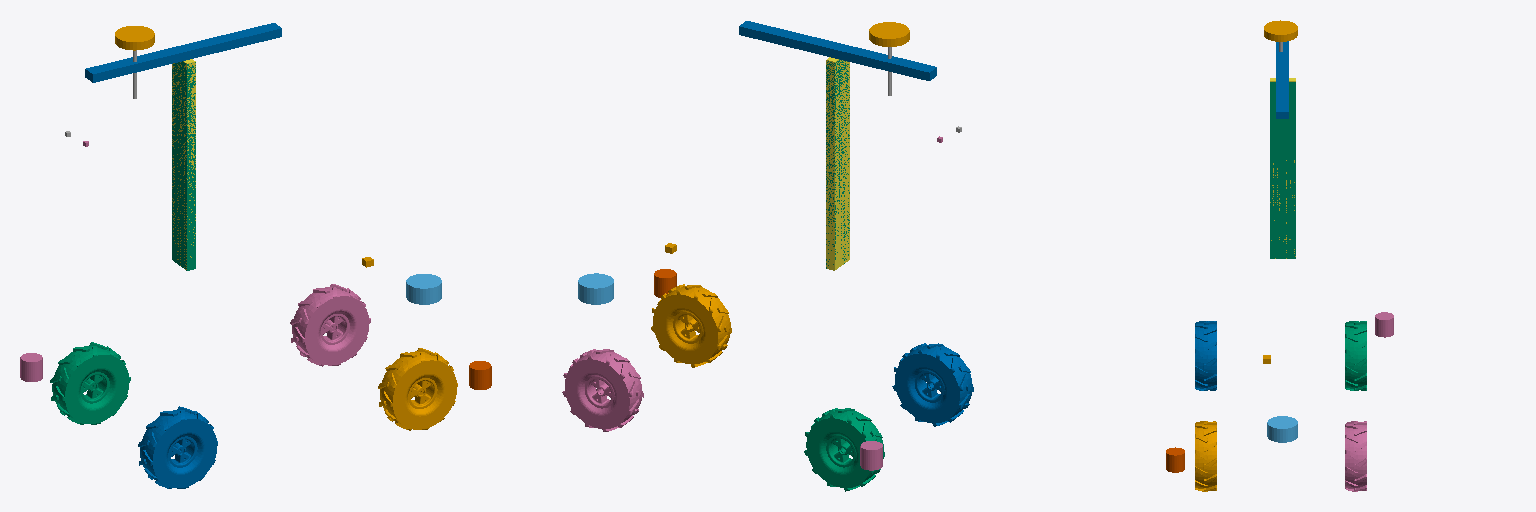
--- Facts derived from the render (not from the file) ---
Views: 3 orthographic renders of the robot side by side, from view 1: azimuth 30°, elevation 25°; view 2: azimuth 150°, elevation 25°; view 3: azimuth 270°, elevation 25°.
Model sherpa with 26 links and 25 joints (8 revolute, 4 continuous, 1 prismatic, 12 fixed), rooted at baselink, posed every joint at zero.
Visible links, largest first — view 1: rbsherpa_hl_front_right_wheel_traction_link, rbsherpa_hl_back_left_wheel_traction_link, rbsherpa_hl_back_right_wheel_traction_link, rbsherpa_hl_front_left_wheel_traction_link, rbsherpa_hl_torso_elevator_link, rbsherpa_hl_torso_pantilt_pan_link, fake_torso_elevator_link, rbsherpa_hl_velodyne_base_link, gps, rbsherpa_hl_rear_laser_link, rbsherpa_hl_front_laser_link; view 2: rbsherpa_hl_front_left_wheel_traction_link, rbsherpa_hl_front_right_wheel_traction_link, rbsherpa_hl_back_right_wheel_traction_link, rbsherpa_hl_back_left_wheel_traction_link, fake_torso_elevator_link, rbsherpa_hl_torso_pantilt_pan_link, rbsherpa_hl_torso_elevator_link, rbsherpa_hl_velodyne_base_link, gps, rbsherpa_hl_rear_laser_link, rbsherpa_hl_front_laser_link; view 3: rbsherpa_hl_torso_elevator_link, rbsherpa_hl_front_right_wheel_traction_link, rbsherpa_hl_front_left_wheel_traction_link, rbsherpa_hl_back_right_wheel_traction_link, rbsherpa_hl_back_left_wheel_traction_link, rbsherpa_hl_torso_pantilt_pan_link, rbsherpa_hl_velodyne_base_link, gps.
Link boxes in pixels (bbox=[...]): rbsherpa_hl_front_right_wheel_traction_link: bbox=[378, 348, 457, 430]; rbsherpa_hl_back_left_wheel_traction_link: bbox=[50, 342, 130, 424]; rbsherpa_hl_back_right_wheel_traction_link: bbox=[138, 406, 217, 488]; rbsherpa_hl_front_left_wheel_traction_link: bbox=[290, 284, 370, 366]; rbsherpa_hl_torso_elevator_link: bbox=[172, 61, 195, 270]; rbsherpa_hl_torso_pantilt_pan_link: bbox=[85, 23, 281, 82]; fake_torso_elevator_link: bbox=[172, 59, 195, 269]; rbsherpa_hl_velodyne_base_link: bbox=[406, 274, 441, 304]; gps: bbox=[115, 26, 154, 50]; rbsherpa_hl_rear_laser_link: bbox=[20, 353, 42, 381]; rbsherpa_hl_front_laser_link: bbox=[469, 361, 491, 389]; rbsherpa_hl_front_left_wheel_traction_link: bbox=[562, 349, 643, 431]; rbsherpa_hl_front_right_wheel_traction_link: bbox=[651, 284, 731, 367]; rbsherpa_hl_back_right_wheel_traction_link: bbox=[892, 343, 973, 426]; rbsherpa_hl_back_left_wheel_traction_link: bbox=[804, 408, 884, 491]; fake_torso_elevator_link: bbox=[826, 57, 849, 270]; rbsherpa_hl_torso_pantilt_pan_link: bbox=[739, 21, 936, 80]; rbsherpa_hl_torso_elevator_link: bbox=[826, 59, 849, 268]; rbsherpa_hl_velodyne_base_link: bbox=[578, 273, 613, 304]; gps: bbox=[869, 22, 909, 46]; rbsherpa_hl_rear_laser_link: bbox=[860, 441, 882, 470]; rbsherpa_hl_front_laser_link: bbox=[654, 269, 676, 297]; rbsherpa_hl_torso_elevator_link: bbox=[1270, 82, 1295, 258]; rbsherpa_hl_front_right_wheel_traction_link: bbox=[1195, 421, 1216, 491]; rbsherpa_hl_front_left_wheel_traction_link: bbox=[1345, 421, 1366, 491]; rbsherpa_hl_back_right_wheel_traction_link: bbox=[1195, 321, 1216, 390]; rbsherpa_hl_back_left_wheel_traction_link: bbox=[1345, 321, 1366, 390]; rbsherpa_hl_torso_pantilt_pan_link: bbox=[1276, 41, 1288, 118]; rbsherpa_hl_velodyne_base_link: bbox=[1267, 416, 1297, 442]; gps: bbox=[1264, 20, 1297, 41].
Bounding box of the posed robot: 1.95 × 1.2 × 2.08 m (x, y, z).
4 mesh visuals loaded from 8 distinct referenced files (1 Collada DAE); not drawn: 10 (reference not matched to a file when rendering).

The robot description file, URDF, robot "sherpa":
<?xml version="1.0" ?>
<!-- =================================================================================== -->
<!-- |    This document was autogenerated by xacro from rm3_sherpa_omni.urdf.xacro     | -->
<!-- |    EDITING THIS FILE BY HAND IS NOT RECOMMENDED                                 | -->
<!-- =================================================================================== -->
<!-- Sherpa -->
<robot name="sherpa" xmlns:xacro="http://www.ros.org/wiki/xacro">
  <!--from sherpa_ex-->
  <!-- Height of the top of the chassis wrt ground -->
  <!-- Wheel Parameters -->
  <!-- Sensors -->
  <!-- Arm Parameters -->
  <!-- Origin wrt chassis' frame -->
  <!--<xacro:property name="lg_origin_y" value="0.0"/>-->
  <!--<xacro:property name="lg_origin_z" value="${cb_origin_z}"/> <!- - Height of the top of the chassis wrt ground - ->-->
  <!--xacro:arg name="prefix" default="rbsherpa_hl_"/-->
  <!-- Base Link -->
  <link name="baselink">
    <visual>
      <origin rpy="0.0 0.0 0.0" xyz="0.0 0.0 0.001"/>
      <geometry>
        <box size="0.001 0.001 0.001"/>
      </geometry>
    </visual>
    <!--		<collision>-->
    <!--			<origin rpy="0.0 0.0 0.0" xyz="0.0 0.0 ${chassis_field_height}"/>-->
    <!--			<geometry>-->
    <!--				<box size="0.001 0.001 0.001"/>-->
    <!--			</geometry>-->
    <!--		</collision>-->
  </link>
  <!--	<joint name="${prefix}base_footprint_joint" type="fixed">-->
  <!--		<parent link="baselink"/>-->
  <!--		<child link="${prefix}base_link"/>-->
  <!--<!- -        <origin xyz="0.0 0.0 0.0"/>- ->-->
  <!--		<origin xyz="0.622 0.0 0.0"/>-->
  <!--	</joint>-->
  <!--	-->
  <!--<!- - Chassis - ->-->
  <!--	<link name="${prefix}base_link">-->
  <!--		<visual>-->
  <!--			<origin rpy="0.0 0.0 ${PI}" xyz="0.0 0.0 ${chassis_z/2-0.0150}"/>-->
  <!--			<geometry>-->
  <!--<mesh filename="package://rm3_sherpa_description/description/meshes/rbsherpa_hl_base_tank.dae" />-->
  <!--			</geometry>-->
  <!--		</visual>-->
  <!--     -->
  <!--		<collision>-->
  <!--			<origin rpy="0.0 0.0 0.0" xyz="0.0 0.0 ${chassis_field_height+chassis_z/2}"/>-->
  <!--			<geometry>-->
  <!--				<box size="${chassis_x} ${chassis_y} ${chassis_z}"/>-->
  <!--			</geometry>-->
  <!--		</collision>-->
  <!--     -->
  <!--		<inertial> -->
  <!--			<origin rpy="0.0 0.0 0.0" xyz="0.0 0.0 ${chassis_field_height+chassis_z/2}"/>-->
  <!--			<mass value="${mass}"/>-->
  <!--			<box_inertia  m="${mass}" h="${chassis_x}" w ="${chassis_y}" d="${chassis_z}"/>-->
  <!--		</inertial>-->
  <!--	</link>-->
  <!--	-->
  <!--	<gazebo reference="${prefix}base_link"><material>Gazebo/Red</material></gazebo>-->
  <joint name="rbsherpa_hl_base_footprint_joint" type="fixed">
    <parent link="baselink"/>
    <child link="rbsherpa_hl_base_link"/>
    <origin xyz="0.622 0.0 0.0"/>
  </joint>
  <!-- Chassis -->
  <link name="rbsherpa_hl_base_link">
    <visual>
      --&gt;
			
      <origin rpy="0.0 0.0 3.14159265359" xyz="0.0 0.0 0.1822"/>
      <geometry>
        <mesh filename="package://rm3_sherpa_description/description/meshes/rbsherpa_hl_base_tank.dae"/>
      </geometry>
    </visual>
    <!--		<visual>-->
    <!--			<origin rpy="0.0 0.0 0.0" xyz="0.0 0.0 ${chassis_field_height+chassis_z/2}"/>-->
    <!--			<geometry>-->
    <!--				<box size="${chassis_x} ${chassis_y} ${chassis_z}"/>-->
    <!--			</geometry>-->
    <!--		</visual>-->
    <collision>
      <origin rpy="0.0 0.0 0.0" xyz="0.0 0.0 0.6671"/>
      <geometry>
        <box size="1.6434 1.004 0.3944"/>
      </geometry>
    </collision>
    <inertial>
      <origin rpy="0.0 0.0 0.0" xyz="0.0 0.0 0.6671"/>
      <mass value="1"/>
      <inertia ixx="0.0969639466667" ixy="0.0" ixz="0.0" iyy="0.238026243333" iyz="0.0" izz="0.309064963333"/>
    </inertial>
  </link>
  <!--  <gazebo reference="${prefix}base_link">-->
  <!--    <material>Gazebo/Red</material>-->
  <!--    <mu1 value="${mu_1}"/>-->
  <!--  </gazebo>-->
  <gazebo reference="rbsherpa_hl_base_link">
    <material>Gazebo/Red</material>
    <mu1 value="9999999999999999999999999999999"/>
  </gazebo>
  <!-- ros_control plugin -->
  <gazebo>
    <static>false</static>
    <plugin filename="libgazebo_ros_control.so" name="gazebo_ros_control">
      <robotNamespace>/sherpa</robotNamespace>
      <robotSimType>gazebo_ros_control/DefaultRobotHWSim</robotSimType>
      <legacyModeNS>true</legacyModeNS>
    </plugin>
  </gazebo>
  <!--xacro:arg name="prefix" default="rbsherpa_hl_"/-->
  <!-- Lift Link -->
  <joint name="rbsherpa_hl_torso_elevator_joint" type="prismatic">
    <parent link="rbsherpa_hl_base_link"/>
    <child link="rbsherpa_hl_torso_elevator_link"/>
    <origin rpy="0.0 0.0 0.0" xyz="-0.36280 0.0090 0.8643"/>
    <axis xyz="0 0 1"/>
    <limit effort="1000" lower="0.0" upper="2.5" velocity="0.5"/>
  </joint>
  <link name="rbsherpa_hl_torso_elevator_link">
    <visual>
      <origin rpy="0.0 0.0 0.0" xyz="0.0 0.0 0.51185"/>
      <geometry>
        <box size="0.04507 0.13725 1.0237"/>
      </geometry>
    </visual>
    <inertial>
      <origin rpy="0.0 0.0 0.0" xyz="0.0 0.0 0.51185"/>
      <mass value="0.5"/>
      <inertia ixx="0.0444499688542" ixy="0.0" ixz="0.0" iyy="0.0437497081208" iyz="0.0" izz="0.000869536141667"/>
    </inertial>
  </link>
  <gazebo reference="rbsherpa_hl_torso_elevator_link">
    <material>Gazebo/DarkGrey</material>
  </gazebo>
  <joint name="fake_torso_elevator_joint" type="fixed">
    <parent link="rbsherpa_hl_base_link"/>
    <child link="fake_torso_elevator_link"/>
    <origin xyz="-0.36280 0.0090 0.8643"/>
  </joint>
  <link name="fake_torso_elevator_link">
    <visual>
      <origin rpy="0.0 0.0 0.0" xyz="0.0 0.0 0.51345"/>
      <geometry>
        <box size="0.04507 0.13725 1.0269"/>
      </geometry>
    </visual>
    <inertial>
      <origin rpy="0.0 0.0 0.0" xyz="0.0 0.0 0.51345"/>
      <mass value="0.5"/>
      <inertia ixx="0.0444499688542" ixy="0.0" ixz="0.0" iyy="0.0437497081208" iyz="0.0" izz="0.000869536141667"/>
    </inertial>
  </link>
  <gazebo reference="fake_torso_elevator_link">
    <material>Gazebo/DarkGrey</material>
  </gazebo>
  <!-- Pan -->
  <joint name="rbsherpa_hl_torso_pantilt_pan_joint" type="revolute">
    <parent link="rbsherpa_hl_torso_elevator_link"/>
    <child link="rbsherpa_hl_torso_pantilt_pan_link"/>
    <origin rpy="0.0 0.0 0.0" xyz="0.0 0.0 1.0269"/>
    <axis xyz="0.0 0.0 -1"/>
    --&gt;
	
    <limit effort="1000" lower="-3.1415" upper="3.1415" velocity="0.2"/>
  </joint>
  <link name="rbsherpa_hl_torso_pantilt_pan_link">
    <visual>
      <origin rpy="0.0 0.0 3.14159265359" xyz="0.0 0.0 0.021455"/>
      <geometry>
        <box size="0.980915 0.07 0.04291"/>
      </geometry>
    </visual>
    <inertial>
      <origin rpy="0.0 0.0 0.0" xyz="0 0 0.021455"/>
      <mass value="0.5"/>
      <inertia ixx="0.000280886170833" ixy="0.0" ixz="0.0" iyy="0.0401681460552" iyz="0.0" izz="0.0402955932177"/>
    </inertial>
  </link>
  <gazebo reference="rbsherpa_hl_torso_pantilt_pan_link">
    <material>Gazebo/DarkGrey</material>
  </gazebo>
  <!--xacro:arg name="prefix" default="rbsherpa_hl_"/-->
  <!-- pan_transmission OLD -->
  <transmission name="rbsherpa_hl_torso_pantilt_pan_trans">
    <type>transmission_interface/SimpleTransmission</type>
    <joint name="rbsherpa_hl_torso_pantilt_pan_joint">
      <hardwareInterface>hardware_interface/EffortJointInterface</hardwareInterface>
    </joint>
    <actuator name="rbsherpa_hl_torso_pantilt_pan_motor">
      <mechanicalReduction>1</mechanicalReduction>
      <hardwareInterface>hardware_interface/EffortJointInterface</hardwareInterface>
    </actuator>
  </transmission>
  <!-- pan_transmission OLD
<transmission name="pan_joint_transmission">
    <type>transmission_interface/SimpleTransmission</type>
    <joint name="pan_joint">
      <hardwareInterface>hardware_interface/EffortJointInterface</hardwareInterface>
    </joint>
    <actuator name="pan_joint_motor">    
      <hardwareInterface>hardware_interface/EffortJointInterface</hardwareInterface>
      <mechanicalReduction>1.0</mechanicalReduction>
    </actuator>
</transmission>-->
  <!-- lift_transmission NEW-->
  <transmission name="rbsherpa_hl_torso_elevator_trans">
    <type>transmission_interface/SimpleTransmission</type>
    <joint name="rbsherpa_hl_torso_elevator_joint">
      <hardwareInterface>hardware_interface/EffortJointInterface</hardwareInterface>
    </joint>
    <actuator name="rbsherpa_hl_torso_elevator_motor">
      <mechanicalReduction>1</mechanicalReduction>
      <hardwareInterface>hardware_interface/EffortJointInterface</hardwareInterface>
    </actuator>
  </transmission>
  <!-- lift_transmission OLD
<transmission name="lift_joint_transmission">
    <type>transmission_interface/SimpleTransmission</type>
    <joint name="lift_joint">
       <hardwareInterface>hardware_interface/EffortJointInterface</hardwareInterface> 

    </joint>
    <actuator name="lift_joint_motor">    
       <hardwareInterface>hardware_interface/EffortJointInterface</hardwareInterface> 

      <mechanicalReduction>1.0</mechanicalReduction>
    </actuator>
</transmission>-->
  <!-- yaw_transmission NEW -->
  <transmission name="rbsherpa_hl_gimbal_yaw_trans">
    <type>transmission_interface/SimpleTransmission</type>
    <joint name="rbsherpa_hl_gimbal_yaw_joint">
      <hardwareInterface>hardware_interface/EffortJointInterface</hardwareInterface>
    </joint>
    <actuator name="rbsherpa_hl_gimbal_yaw_motor">
      <mechanicalReduction>1</mechanicalReduction>
      <hardwareInterface>hardware_interface/EffortJointInterface</hardwareInterface>
    </actuator>
  </transmission>
  <!-- yaw_transmission OLD
<transmission name="yaw_joint_transmission">
    <type>transmission_interface/SimpleTransmission</type>
    <joint name="yaw_joint">
       <hardwareInterface>hardware_interface/EffortJointInterface</hardwareInterface> 

    </joint>
    <actuator name="yaw_joint_motor">    
       <hardwareInterface>hardware_interface/EffortJointInterface</hardwareInterface> 

      <mechanicalReduction>1.0</mechanicalReduction>
    </actuator>
</transmission>-->
  <!-- roll_transmission NEW -->
  <transmission name="rbsherpa_hl_gimbal_roll_trans">
    <type>transmission_interface/SimpleTransmission</type>
    <joint name="rbsherpa_hl_gimbal_roll_joint">
      <hardwareInterface>hardware_interface/EffortJointInterface</hardwareInterface>
    </joint>
    <actuator name="rbsherpa_hl_gimbal_roll_motor">
      <mechanicalReduction>1</mechanicalReduction>
      <hardwareInterface>hardware_interface/EffortJointInterface</hardwareInterface>
    </actuator>
  </transmission>
  <!-- roll_transmission OLD 
<transmission name="roll_joint_transmission">
    <type>transmission_interface/SimpleTransmission</type>
    <joint name="roll_joint">
       <hardwareInterface>hardware_interface/EffortJointInterface</hardwareInterface> 

    </joint>
    <actuator name="roll_joint_motor">    
       <hardwareInterface>hardware_interface/EffortJointInterface</hardwareInterface> 

      <mechanicalReduction>1.0</mechanicalReduction>
    </actuator>
</transmission>-->
  <!-- pitch_transmission NEW -->
  <transmission name="rbsherpa_hl_gimbal_pitch_trans">
    <type>transmission_interface/SimpleTransmission</type>
    <joint name="rbsherpa_hl_gimbal_pitch_joint">
      <hardwareInterface>hardware_interface/EffortJointInterface</hardwareInterface>
    </joint>
    <actuator name="rbsherpa_hl_gimbal_pitch_motor">
      <mechanicalReduction>1</mechanicalReduction>
      <hardwareInterface>hardware_interface/EffortJointInterface</hardwareInterface>
    </actuator>
  </transmission>
  <!-- pitch_transmission OLD 
<transmission name="pitch_joint_transmission">
    <type>transmission_interface/SimpleTransmission</type>
    <joint name="pitch_joint">
       <hardwareInterface>hardware_interface/EffortJointInterface</hardwareInterface> 

    </joint>
    <actuator name="pitch_joint_motor">    
       <hardwareInterface>hardware_interface/EffortJointInterface</hardwareInterface> 

      <mechanicalReduction>1.0</mechanicalReduction>
    </actuator>
</transmission>-->
  <!--  <xacro:property name="wheel_joint_damping" value="10.0" />-->
  <!--  <xacro:property name="wheel_joint_friction" value="15.0" />-->
  <!-- Left Steering Wheel -->
  <!--   Steering Mechanism -->
  <joint name="rbsherpa_hl_front_left_wheel_steer_joint" type="revolute">
    <parent link="rbsherpa_hl_base_link"/>
    <child link="rbsherpa_hl_front_left_wheel_steer_link"/>
    <origin xyz="0.622 0.367 0.4799"/>
    <axis rpy="0 0 0" xyz="0 0 1"/>
    <!--<limit effort="30.0" velocity="50.0" lower="-${steer_joint_position_limit}" upper="${steer_joint_position_limit}"/>-->
    <limit effort="30.0" lower="-3.13159265359" upper="3.14159265359" velocity="50.0"/>
    <!--    <joint_properties damping="${steer_joint_damping}" friction="${steer_joint_friction}"/>-->
  </joint>
  <!--  <joint name="$(arg prefix)front_left_wheel_steer_joint" type="fixed">-->
  <!--    <parent link="$(arg prefix)base_link"/>-->
  <!--    <child link="$(arg prefix)front_left_wheel_steer_link"/>-->
  <!--    <origin xyz="${wheel_steer_offset_x} ${wheel_steer_offset_y} ${chassis_field_height+0.010}"/>-->
  <!--  </joint>-->
  <link name="rbsherpa_hl_front_left_wheel_steer_link">
    <visual>
      <origin rpy="0.0 0.0 0.0" xyz="0.0 0.0 -0.018"/>
      <geometry>
        <mesh filename="package://rm3_sherpa_description/description/meshes/rbsherpa_hl_steer_wheel.dae"/>
      </geometry>
    </visual>
    <inertial>
      <origin rpy="1.57079632679 0.0 0.0" xyz="0.0 0.0 -0.03"/>
      <mass value="0.1"/>
      <inertia ixx="0.000643333333333" ixy="0.0" ixz="0.0" iyy="0.00128" iyz="0.0" izz="0.000643333333333"/>
    </inertial>
  </link>
  <gazebo reference="rbsherpa_hl_front_left_wheel_steer_link">
    <material>Gazebo/Grey</material>
  </gazebo>
  <!-- wheel -->
  <joint name="rbsherpa_hl_front_left_wheel_traction_joint" type="continuous">
    <parent link="rbsherpa_hl_front_left_wheel_steer_link"/>
    <child link="rbsherpa_hl_front_left_wheel_traction_link"/>
    <origin xyz="0.0 -0.03 -0.3066"/>
    <axis xyz="0.0 1.0 0.0"/>
    <!--    <joint_properties damping="${wheel_joint_damping}" friction="${wheel_joint_friction}"/>-->
  </joint>
  <!--  <joint name="$(arg prefix)front_left_wheel_traction_joint" type="fixed">-->
  <!--    <parent link="$(arg prefix)front_left_wheel_steer_link"/>-->
  <!--      <child link="$(arg prefix)front_left_wheel_traction_link"/>-->
  <!--      <origin xyz="0.0 -${wheel_traction_offset_y} -${steer_z+0.0210+suspension_z}"/>-->
  <!--  </joint>-->
  <link name="rbsherpa_hl_front_left_wheel_traction_link">
    <visual>
      <origin rpy="0.0 1.57079632679 0.0" xyz="0.0 0.0571 0.0"/>
      <geometry>
        <mesh filename="package://rm3_sherpa_description/description/meshes/rbsherpa_hl_traction_wheel.dae"/>
      </geometry>
      <!--      <origin rpy="0.0 ${PI/2} ${PI/2}" xyz="0.0 ${wheel_width/2} 0.0"/>-->
      <!--      <geometry>-->
      <!--        <cylinder radius="${wheel_radius}" length="${wheel_width}"/>-->
      <!--      </geometry>-->
    </visual>
    <collision>
      <origin rpy="0.0 1.57079632679 1.57079632679" xyz="0.0 0.0571 0.0"/>
      <geometry>
        <cylinder length="0.1142" radius="0.1743"/>
      </geometry>
    </collision>
    <inertial>
      <origin rpy="0.0 0.0 0.0" xyz="0.0 0.0571 0.0"/>
      <mass value="1.0"/>
      <inertia ixx="0.00868192583333" ixy="0.0" ixz="0.0" iyy="0.015190245" iyz="0.0" izz="0.00868192583333"/>
    </inertial>
  </link>
  <gazebo reference="rbsherpa_hl_front_left_wheel_traction_link">
    <material>Gazebo/DarkGrey</material>
    <mu1 value="9999999999999999999999999999999"/>
  </gazebo>
  <transmission name="rbsherpa_hl_front_left_wheel_steer_wheel_joint_trans">
    <type>transmission_interface/SimpleTransmission</type>
    <joint name="rbsherpa_hl_front_left_wheel_steer_joint">
      <hardwareInterface>hardware_interface/EffortJointInterface</hardwareInterface>
    </joint>
    <actuator name="rbsherpa_hl_front_left_wheel_steer_wheel_joint_motor">
      <hardwareInterface>hardware_interface/EffortJointInterface</hardwareInterface>
      <mechanicalReduction>1.0</mechanicalReduction>
    </actuator>
  </transmission>
  <transmission name="rbsherpa_hl_front_left_wheel_traction_wheel_traction_joint_trans">
    <type>transmission_interface/SimpleTransmission</type>
    <joint name="rbsherpa_hl_front_left_wheel_traction_joint">
      <hardwareInterface>hardware_interface/EffortJointInterface</hardwareInterface>
    </joint>
    <actuator name="rbsherpa_hl_front_left_wheel_traction_wheel_traction_joint_motor">
      <hardwareInterface>hardware_interface/EffortJointInterface</hardwareInterface>
      <mechanicalReduction>1.0</mechanicalReduction>
    </actuator>
  </transmission>
  <!--  <!- - left_front_axle_transmission - ->-->
  <!--  <transmission name="$(arg prefix)front_left_wheel_traction_transmission">-->
  <!--    <type>trasnmission_interface/SimpleTransmission</type>-->
  <!--    <joint name="$(arg prefix)front_left_wheel_traction_joint">-->
  <!--      <hardwareInterface>hardware_interface/EffortJointInterface</hardwareInterface>-->
  <!--    </joint>-->
  <!--    <actuator name="$(arg prefix)front_left_wheel_traction_motor">    -->
  <!--      <hardwareInterface>hardware_interface/EffortJointInterface</hardwareInterface>-->
  <!--      <mechanicalReduction>1</mechanicalReduction>-->
  <!--    </actuator>-->
  <!--  </transmission>-->
  <!--  <gazebo reference="left_front_wheel">-->
  <!--    <material>Gazebo/DarkGrey</material>-->
  <!--			<mu1 value="1.0"/>-->
  <!--			<mu2 value="1.0"/>-->
  <!--			<kp value="10000000.0" />-->
  <!--			<kd value="1.0" />-->
  <!--			<fdir1 value="1 0.0 0.0"/>-->
  <!--    </gazebo>-->
  <!-- Right Steering Wheel -->
  <!-- Steering Mechanism -->
  <joint name="rbsherpa_hl_front_right_wheel_steer_joint" type="revolute">
    <parent link="rbsherpa_hl_base_link"/>
    <child link="rbsherpa_hl_front_right_wheel_steer_link"/>
    <origin xyz="0.622 -0.367 0.4799"/>
    <axis rpy="0 0 0" xyz="0 0 1"/>
    <limit effort="30.0" lower="-3.13159265359" upper="3.14159265359" velocity="50.0"/>
    <!--    <joint_properties damping="${steer_joint_damping}" friction="${steer_joint_friction}"/>-->
  </joint>
  <!--  <joint name="$(arg prefix)front_right_wheel_steer_joint" type="fixed">-->
  <!--    <parent link="$(arg prefix)base_link"/>-->
  <!--    <child link="$(arg prefix)front_right_wheel_steer_link"/>-->
  <!--    <origin xyz="${wheel_steer_offset_x} -${wheel_steer_offset_y} ${chassis_field_height+0.010}"/>-->
  <!--  </joint>-->
  <link name="rbsherpa_hl_front_right_wheel_steer_link">
    <visual>
      <origin rpy="0.0 0.0 3.14159265359" xyz="0.0 0.0 -0.018"/>
      <geometry>
        <mesh filename="package://rm3_sherpa_description/description/meshes/rbsherpa_hl_steer_wheel.dae"/>
      </geometry>
    </visual>
    <inertial>
      <origin rpy="1.57079632679 0.0 0.0" xyz="0.0 0.0 -0.03"/>
      <mass value="0.1"/>
      <inertia ixx="0.000643333333333" ixy="0.0" ixz="0.0" iyy="0.00128" iyz="0.0" izz="0.000643333333333"/>
    </inertial>
  </link>
  <gazebo reference="rbsherpa_hl_front_right_wheel_steer_link">
    <material>Gazebo/Grey</material>
  </gazebo>
  <!-- wheel -->
  <joint name="rbsherpa_hl_front_right_wheel_traction_joint" type="continuous">
    <parent link="rbsherpa_hl_front_right_wheel_steer_link"/>
    <child link="rbsherpa_hl_front_right_wheel_traction_link"/>
    <origin xyz="0.0 0.03 -0.3066"/>
    <axis xyz="0.0 1.0 0.0"/>
  </joint>
  <!--  <joint name="$(arg prefix)front_right_wheel_traction_joint" type="fixed">-->
  <!--      <parent link="$(arg prefix)front_right_wheel_steer_link" />-->
  <!--      <child link="$(arg prefix)front_right_wheel_traction_link"/>-->
  <!--      <origin xyz="0.0 ${wheel_traction_offset_y} -${steer_z+0.0210+suspension_z}"/>-->
  <!--  </joint>-->
  <link name="rbsherpa_hl_front_right_wheel_traction_link">
    <visual>
      <origin rpy="0.0 1.57079632679 0.0" xyz="0.0 -0.0571 0.0"/>
      <geometry>
        <mesh filename="package://rm3_sherpa_description/description/meshes/rbsherpa_hl_traction_wheel.dae"/>
      </geometry>
    </visual>
    <collision>
      <origin rpy="0.0 1.57079632679 1.57079632679" xyz="0.0 -0.0571 0.0"/>
      <geometry>
        <cylinder length="0.1142" radius="0.1743"/>
      </geometry>
    </collision>
    <inertial>
      <origin rpy="0.0 0.0 0.0" xyz="0.0 -0.0571 0.0"/>
      <mass value="1.0"/>
      <inertia ixx="0.00868192583333" ixy="0.0" ixz="0.0" iyy="0.015190245" iyz="0.0" izz="0.00868192583333"/>
    </inertial>
  </link>
  <transmission name="rbsherpa_hl_front_right_wheel_steer_wheel_joint_trans">
    <type>transmission_interface/SimpleTransmission</type>
    <joint name="rbsherpa_hl_front_right_wheel_steer_joint">
      <hardwareInterface>hardware_interface/EffortJointInterface</hardwareInterface>
    </joint>
    <actuator name="rbsherpa_hl_front_right_wheel_steer_wheel_joint_motor">
      <hardwareInterface>hardware_interface/EffortJointInterface</hardwareInterface>
      <mechanicalReduction>1.0</mechanicalReduction>
    </actuator>
  </transmission>
  <transmission name="rbsherpa_hl_front_right_wheel_traction_wheel_traction_joint_trans">
    <type>transmission_interface/SimpleTransmission</type>
    <joint name="rbsherpa_hl_front_right_wheel_traction_joint">
      <hardwareInterface>hardware_interface/EffortJointInterface</hardwareInterface>
    </joint>
    <actuator name="rbsherpa_hl_front_right_wheel_traction_wheel_traction_joint_motor">
      <hardwareInterface>hardware_interface/EffortJointInterface</hardwareInterface>
      <mechanicalReduction>1.0</mechanicalReduction>
    </actuator>
  </transmission>
  <gazebo reference="rbsherpa_hl_front_right_wheel_traction_link">
    <material>Gazebo/DarkGrey</material>
    <mu1 value="9999999999999999999999999999999"/>
  </gazebo>
  <!--  <gazebo reference="right_front_wheel">-->
  <!--    <material>Gazebo/DarkGrey</material> -->
  <!--    <mu1 value="1.0"/>-->
  <!--			<mu2 value="1.0"/>-->
  <!--			<kp value="10000000.0" />-->
  <!--			<kd value="1.0" />-->
  <!--			<fdir1 value="1.0 0.0 0.0"/>-->
  <!--    </gazebo>   -->
  <!-- Left rear Wheel -->
  <!-- Support-->
  <joint name="rbsherpa_hl_back_left_wheel_steer_joint" type="revolute">
    <parent link="rbsherpa_hl_base_link"/>
    <child link="rbsherpa_hl_back_left_wheel_steer_link"/>
    <origin xyz="-0.622 0.367 0.4799"/>
    <axis rpy="0 0 0" xyz="0 0 1"/>
    <limit effort="30.0" lower="-3.13159265359" upper="3.14159265359" velocity="50.0"/>
    <!--    <joint_properties damping="${steer_joint_damping}" friction="${steer_joint_friction}"/>-->
  </joint>
  <!--  <joint name="$(arg prefix)back_left_wheel_steer_joint" type="fixed">-->
  <!--    <parent link="$(arg prefix)base_link"/>-->
  <!--    <child link="$(arg prefix)back_left_wheel_steer_link"/>-->
  <!--    <origin xyz="-${wheel_steer_offset_x} ${wheel_steer_offset_y} ${chassis_field_height+0.010}"/>-->
  <!--  </joint>-->
  <link name="rbsherpa_hl_back_left_wheel_steer_link">
    <visual>
      <origin rpy="0.0 0.0 0.0" xyz="0.0 0.0 -0.018"/>
      <geometry>
        <mesh filename="package://rm3_sherpa_description/description/meshes/rbsherpa_hl_steer_wheel.dae"/>
      </geometry>
    </visual>
    <inertial>
      <origin rpy="1.57079632679 0.0 0.0" xyz="0.0 0.0 -0.03"/>
      <mass value="0.1"/>
      <inertia ixx="0.000643333333333" ixy="0.0" ixz="0.0" iyy="0.00128" iyz="0.0" izz="0.000643333333333"/>
    </inertial>
  </link>
  <gazebo reference="rbsherpa_hl_back_left_wheel_steer_link">
    <material>Gazebo/Grey</material>
  </gazebo>
  <!-- wheel -->
  <joint name="rbsherpa_hl_back_left_wheel_traction_joint" type="continuous">
    <parent link="rbsherpa_hl_back_left_wheel_steer_link"/>
    <child link="rbsherpa_hl_back_left_wheel_traction_link"/>
    <origin xyz="0.0 -0.03 -0.3066"/>
    <axis xyz="0.0 1.0 0.0"/>
  </joint>
  <!--  <joint name="$(arg prefix)back_left_wheel_traction_joint" type="fixed">-->
  <!--      <parent link="$(arg prefix)back_left_wheel_steer_link" />-->
  <!--      <child link="$(arg prefix)back_left_wheel_traction_link"/>-->
  <!--      <origin xyz="0.0 -${wheel_traction_offset_y} -${steer_z+0.0210+suspension_z}"/>-->
  <!--  </joint>-->
  <link name="rbsherpa_hl_back_left_wheel_traction_link">
    <visual>
      <origin rpy="0.0 1.57079632679 0.0" xyz="0.0 0.0571 0.0"/>
      <geometry>
        <mesh filename="package://rm3_sherpa_description/description/meshes/rbsherpa_hl_traction_wheel.dae"/>
      </geometry>
    </visual>
    <collision>
      <origin rpy="0.0 1.57079632679 1.57079632679" xyz="0.0 0.0571 0.0"/>
      <geometry>
        <cylinder length="0.1142" radius="0.1743"/>
      </geometry>
    </collision>
    <inertial>
      <origin rpy="0.0 0.0 0.0" xyz="0.0 0.0571 0.0"/>
      <mass value="1.0"/>
      <inertia ixx="0.00868192583333" ixy="0.0" ixz="0.0" iyy="0.015190245" iyz="0.0" izz="0.00868192583333"/>
    </inertial>
  </link>
  <transmission name="rbsherpa_hl_back_left_wheel_steer_wheel_joint_trans">
    <type>transmission_interface/SimpleTransmission</type>
    <joint name="rbsherpa_hl_back_left_wheel_steer_joint">
      <hardwareInterface>hardware_interface/EffortJointInterface</hardwareInterface>
    </joint>
    <actuator name="rbsherpa_hl_back_left_wheel_steer_wheel_joint_motor">
      <hardwareInterface>hardware_interface/EffortJointInterface</hardwareInterface>
      <mechanicalReduction>1.0</mechanicalReduction>
    </actuator>
  </transmission>
  <transmission name="rbsherpa_hl_back_left_wheel_traction_wheel_traction_joint_trans">
    <type>transmission_interface/SimpleTransmission</type>
    <joint name="rbsherpa_hl_back_left_wheel_traction_joint">
      <hardwareInterface>hardware_interface/EffortJointInterface</hardwareInterface>
    </joint>
    <actuator name="rbsherpa_hl_back_left_wheel_traction_wheel_traction_joint_motor">
      <hardwareInterface>hardware_interface/EffortJointInterface</hardwareInterface>
      <mechanicalReduction>1.0</mechanicalReduction>
    </actuator>
  </transmission>
  <gazebo reference="rbsherpa_hl_back_left_wheel_traction_link">
    <material>Gazebo/DarkGrey</material>
    <mu1 value="9999999999999999999999999999999"/>
  </gazebo>
  <!--  <gazebo reference="left_rear_wheel">-->
  <!--    <material>Gazebo/DarkGrey</material> -->
  <!--    <mu1 value="1.0"/>-->
  <!--			<mu2 value="1.0"/>-->
  <!--			<kp value="10000000.0" />-->
  <!--			<kd value="1.0" />-->
  <!--			<fdir1 value="1.0 0.0 0.0"/>-->
  <!--    </gazebo>   -->
  <!-- Right Rear Wheel -->
  <!-- Support -->
  <joint name="rbsherpa_hl_back_right_wheel_steer_joint" type="revolute">
    <parent link="rbsherpa_hl_base_link"/>
    <child link="rbsherpa_hl_back_right_wheel_steer_link"/>
    <origin xyz="-0.622 -0.367 0.4799"/>
    <axis rpy="0 0 0" xyz="0 0 1"/>
    <limit effort="30.0" lower="-3.13159265359" upper="3.14159265359" velocity="50.0"/>
    <!--    <joint_properties damping="${steer_joint_damping}" friction="${steer_joint_friction}"/>-->
  </joint>
  <!-- <joint name="$(arg prefix)back_right_wheel_steer_joint" type="fixed">-->
  <!--    <parent link="$(arg prefix)base_link"/>-->
  <!--    <child link="$(arg prefix)back_right_wheel_steer_link"/>-->
  <!--    <origin xyz="-${wheel_steer_offset_x} -${wheel_steer_offset_y} ${chassis_field_height+0.010}"/>-->
  <!--  </joint>-->
  <link name="rbsherpa_hl_back_right_wheel_steer_link">
    <visual>
      <origin rpy="0.0 0.0 3.14159265359" xyz="0.0 0.0 -0.018"/>
      <geometry>
        <mesh filename="package://rm3_sherpa_description/description/meshes/rbsherpa_hl_steer_wheel.dae"/>
      </geometry>
    </visual>
    <inertial>
      <origin rpy="1.57079632679 0.0 0.0" xyz="0.0 0.0 -0.03"/>
      <mass value="0.1"/>
      <inertia ixx="0.000643333333333" ixy="0.0" ixz="0.0" iyy="0.00128" iyz="0.0" izz="0.000643333333333"/>
    </inertial>
  </link>
  <gazebo reference="rbsherpa_hl_back_right_wheel_steer_link">
    <material>Gazebo/Grey</material>
  </gazebo>
  <!-- wheel -->
  <joint name="rbsherpa_hl_back_right_wheel_traction_joint" type="continuous">
    <parent link="rbsherpa_hl_back_right_wheel_steer_link"/>
    <child link="rbsherpa_hl_back_right_wheel_traction_link"/>
    <origin xyz="0.0 0.03 -0.3066"/>
    <axis xyz="0.0 1 0.0"/>
  </joint>
  <!--  <joint name="$(arg prefix)back_right_wheel_traction_joint" type="fixed">-->
  <!--      <parent link="$(arg prefix)back_right_wheel_steer_link" />-->
  <!--      <child link="$(arg prefix)back_right_wheel_traction_link"/>-->
  <!--      <origin xyz="0.0 ${wheel_traction_offset_y} -${steer_z+0.0210+suspension_z}"/>-->
  <!--  </joint>-->
  <link name="rbsherpa_hl_back_right_wheel_traction_link">
    <visual>
      <origin rpy="0.0 1.57079632679 0.0" xyz="0.0 -0.0571 0.0"/>
      <geometry>
        <mesh filename="package://rm3_sherpa_description/description/meshes/rbsherpa_hl_traction_wheel.dae"/>
      </geometry>
    </visual>
    <collision>
      <origin rpy="0.0 1.57079632679 1.57079632679" xyz="0.0 -0.0571 0"/>
      <geometry>
        <cylinder length="0.1142" radius="0.1743"/>
      </geometry>
    </collision>
    <inertial>
      <origin rpy="0.0 0.0 0.0" xyz="0.0 -0.0571 0.0"/>
      <mass value="1.0"/>
      <inertia ixx="0.00868192583333" ixy="0.0" ixz="0.0" iyy="0.015190245" iyz="0.0" izz="0.00868192583333"/>
    </inertial>
  </link>
  <transmission name="rbsherpa_hl_back_right_wheel_steer_wheel_joint_trans">
    <type>transmission_interface/SimpleTransmission</type>
    <joint name="rbsherpa_hl_back_right_wheel_steer_joint">
      <hardwareInterface>hardware_interface/EffortJointInterface</hardwareInterface>
    </joint>
    <actuator name="rbsherpa_hl_back_right_wheel_steer_wheel_joint_motor">
      <hardwareInterface>hardware_interface/EffortJointInterface</hardwareInterface>
      <mechanicalReduction>1.0</mechanicalReduction>
    </actuator>
  </transmission>
  <transmission name="rbsherpa_hl_back_right_wheel_traction_wheel_traction_joint_trans">
    <type>transmission_interface/SimpleTransmission</type>
    <joint name="rbsherpa_hl_back_right_wheel_traction_joint">
      <hardwareInterface>hardware_interface/EffortJointInterface</hardwareInterface>
    </joint>
    <actuator name="rbsherpa_hl_back_right_wheel_traction_wheel_traction_joint_motor">
      <hardwareInterface>hardware_interface/EffortJointInterface</hardwareInterface>
      <mechanicalReduction>1.0</mechanicalReduction>
    </actuator>
  </transmission>
  <gazebo reference="rbsherpa_hl_back_right_wheel_traction_link">
    <material>Gazebo/DarkGrey</material>
    <mu1 value="9999999999999999999999999999999"/>
  </gazebo>
  <!--  <gazebo reference="right_rear_wheel">-->
  <!--    <material>Gazebo/DarkGrey</material> -->
  <!--    <mu1 value="1.0"/>-->
  <!--			<mu2 value="1.0"/>-->
  <!--			<kp value="10000000.0" />-->
  <!--			<kd value="1.0" />-->
  <!--			<fdir1 value="1.0 0.0 0.0"/>-->
  <!--    </gazebo>  -->
  <!--xacro:arg name="prefix" default="rbsherpa_hl_"/-->
  <!-- Front Sick -->
  <link name="rbsherpa_hl_front_laser_link">
    <visual>
      <origin rpy="0 0 0" xyz="0 0 0"/>
      <geometry>
        <!--				<box size="0.1 0.1 0.1"/>-->
        <cylinder length="0.1" radius="0.05"/>
      </geometry>
    </visual>
    <inertial>
      <mass value="1e-5"/>
      <origin rpy="0 0 0" xyz="0 0 0"/>
      <inertia ixx="1e-6" ixy="0" ixz="0" iyy="1e-6" iyz="0" izz="1e-6"/>
    </inertial>
  </link>
  <joint name="sick_front_joint" type="fixed">
    <axis xyz="0 1 0"/>
    <!--		<origin xyz="${chassis_x/2+0.0782} -${chassis_y/2+0.0879} ${sick_front_z}" rpy="0 0 ${-PI/4}"/>-->
    <origin rpy="3.14159265359 0 -0.785398163397" xyz="0.85070 -0.55260 0.25790"/>
    <parent link="rbsherpa_hl_base_link"/>
    <child link="rbsherpa_hl_front_laser_link"/>
  </joint>
  <gazebo reference="rbsherpa_hl_front_laser_link">
    <sensor name="Sick S300_1" type="ray">
      <pose>0 0 0 0 0 0</pose>
      <visualize>false</visualize>
      <update_rate>12.5</update_rate>
      <ray>
        <scan>
          <horizontal>
            <samples>541</samples>
            <resolution>1</resolution>
            <min_angle>-2.35619</min_angle>
            <max_angle>2.35619</max_angle>
          </horizontal>
        </scan>
        <range>
          <min>0.10</min>
          <max>30.0</max>
          <resolution>0.03</resolution>
        </range>
      </ray>
      <plugin filename="libgazebo_ros_laser.so" name="sick_controller">
        <topicName>/base/front_laser/scan</topicName>
        <frameName>rbsherpa_hl_front_laser_link</frameName>
      </plugin>
    </sensor>
    <material>Gazebo/Yellow</material>
  </gazebo>
  <!-- Rear Sick -->
  <link name="rbsherpa_hl_rear_laser_link">
    <visual>
      <origin rpy="0 0 0" xyz="0 0 0"/>
      <geometry>
        <!--				<box size="0.1 0.1 0.1"/>-->
        <cylinder length="0.1" radius="0.05"/>
      </geometry>
    </visual>
    <inertial>
      <mass value="1e-5"/>
      <origin rpy="0 0 0" xyz="0 0 0"/>
      <inertia ixx="1e-6" ixy="0" ixz="0" iyy="1e-6" iyz="0" izz="1e-6"/>
    </inertial>
  </link>
  <joint name="sick_rear_joint" type="fixed">
    <axis xyz="0 1 0"/>
    <!--		<origin xyz="-${chassis_x/2+0.0987} ${chassis_y/2+0.0989} ${sick_rear_z}" rpy="0 0 ${PI*3/4}"/>-->
    <origin rpy="3.14159265359 0 2.35619449019" xyz="-0.84360 0.54280 0.24980"/>
    <parent link="rbsherpa_hl_base_link"/>
    <child link="rbsherpa_hl_rear_laser_link"/>
  </joint>
  <gazebo reference="rbsherpa_hl_rear_laser_link">
    <sensor name="Sick S300_rear" type="ray">
      <pose>0 0 0 0 0 0</pose>
      <visualize>false</visualize>
      <update_rate>12.5</update_rate>
      <ray>
        <scan>
          <horizontal>
            <samples>541</samples>
            <resolution>1</resolution>
            <min_angle>-2.35619</min_angle>
            <max_angle>2.35619</max_angle>
          </horizontal>
        </scan>
        <range>
          <min>0.10</min>
          <max>30.0</max>
          <resolution>0.03</resolution>
        </range>
      </ray>
      <plugin filename="libgazebo_ros_laser.so" name="sick_controller">
        <topicName>/base/rear_laser/scan</topicName>
        <frameName>rbsherpa_hl_rear_laser_link</frameName>
      </plugin>
    </sensor>
    <material>Gazebo/Yellow</material>
  </gazebo>
  <!-- GPS original- ->
	
	<joint name="gps_support_joint" type="fixed">
		<parent link="gps"/>
		<child link="gps_support"/>
		<origin xyz="0.0 0.0 -0.15" rpy="0 0 0"/>
	</joint>
	
	<link name="gps_support">
		
		<visual>
			<origin xyz="0 0 0" rpy="0 0 0"/>
			<geometry>
        			<cylinder radius="0.0090" length="0.30"/>
			</geometry>
		</visual>
		
		<inertial>
			<origin xyz="0 0 0" rpy="0 0 0"/>
			<mass value="0.50" />
	    		<cylinder_inertia m="0.50" r="0.0090" h="0.30"/>
		</inertial>
			
	</link>
	
	<gazebo reference="gps_support">
        <material>Gazebo/Black</material>
    </gazebo>
	
	<joint name="gps_joint" type="fixed">
		<parent link="${prefix}base_link"/>
		<child link="gps"/>
		<origin xyz="0.72090 -0.09320 1.0160" rpy="0 0 0"/>
	</joint>
	
	<link name="gps">
		
		<visual>
			<origin xyz="0 0 0" rpy="0 0 0"/>
			<geometry>
        			<cylinder radius="0.090" length="0.040"/>
			</geometry>
		</visual>
		
		<inertial>
			<origin xyz="0 0 0" rpy="0 0 0"/>
			<mass value="0.50" />
	    		<cylinder_inertia m="0.50" r="0.090" h="0.040"/>
		</inertial>
			
	</link>
	
	-->
  <!-- GPS -->
  <joint name="gps_support_joint" type="fixed">
    <parent link="gps"/>
    <child link="gps_support"/>
    <origin rpy="0 0 0" xyz="0.0 0.0 -0.15"/>
  </joint>
  <link name="gps_support">
    <visual>
      <origin rpy="0 0 0" xyz="0 0 0"/>
      <geometry>
        <cylinder length="0.30" radius="0.0090"/>
      </geometry>
    </visual>
    <inertial>
      <origin rpy="0 0 0" xyz="0 0 0"/>
      <mass value="0.50"/>
      <inertia ixx="0.003760125" ixy="0.0" ixz="0.0" iyy="2.025e-05" iyz="0.0" izz="0.003760125"/>
    </inertial>
  </link>
  <gazebo reference="gps_support">
    <material>Gazebo/Black</material>
  </gazebo>
  <joint name="gps_joint" type="fixed">
    <parent link="rbsherpa_hl_base_link"/>
    <child link="gps"/>
    <origin rpy="0 0 0" xyz="-0.622 0.0 2.050"/>
  </joint>
  <link name="gps">
    <visual>
      <origin rpy="0 0 0" xyz="0 0 0"/>
      <geometry>
        <cylinder length="0.040" radius="0.090"/>
      </geometry>
    </visual>
    <inertial>
      <origin rpy="0 0 0" xyz="0 0 0"/>
      <mass value="0.50"/>
      <inertia ixx="0.00107916666667" ixy="0.0" ixz="0.0" iyy="0.002025" iyz="0.0" izz="0.00107916666667"/>
    </inertial>
  </link>
  <!-- Faro -->
  <!--	<joint name="faro_support_joint" type="fixed">-->
  <!--		<parent link="pan"/>-->
  <!--		<child link="faro_support"/>-->
  <!--		<origin xyz="-0.43010 -0.00530 0.0" rpy="0 0 0"/>-->
  <!--	</joint>-->
  <!--	-->
  <!--	<link name="faro_support">-->
  <!--		-->
  <!--		<visual>-->
  <!--			<origin xyz="0 0 -0.104150" rpy="0 0 0"/>-->
  <!--			<geometry>-->
  <!--				<box size="0.050 0.050 0.204150"/>-->
  <!--			</geometry>-->
  <!--		</visual>-->
  <!--		-->
  <!--		<inertial>-->
  <!--			<origin xyz="0 0 -0.104150" rpy="0 0 0"/>-->
  <!--			<mass value="1.0" />-->
  <!--			<box_inertia  m="1.0" h="0.050" w ="0.050" d="0.204150"/>-->
  <!--		</inertial>-->
  <!--			-->
  <!--	</link>-->
  <joint name="faro_revolute_joint" type="fixed">
    <parent link="rbsherpa_hl_torso_pantilt_pan_link"/>
    <child link="faro"/>
    <origin rpy="0.0 0.0 0.0" xyz="0.42830 0.00930 -0.21110"/>
  </joint>
  <link name="faro">
    <visual>
      <origin rpy="0 0 0" xyz="-0.38 0.00530 0.13230"/>
      <geometry>
        <mesh filename="package://rm3_sherpa_description/description/meshes/faro.dae"/>
      </geometry>
    </visual>
    <inertial>
      <origin rpy="0 0 0" xyz="0 0 0"/>
      <mass value="1.0"/>
      <inertia ixx="0.00520833333333" ixy="0.0" ixz="0.0" iyy="0.00270833333333" iyz="0.0" izz="0.00416666666667"/>
    </inertial>
  </link>
  <gazebo reference="faro">
    <material>Gazebo/DarkGrey</material>
  </gazebo>
  <!-- Gimball -->
  <joint name="arm_yaw_joint" type="fixed">
    <parent link="rbsherpa_hl_torso_pantilt_pan_link"/>
    <child link="support_yaw"/>
    <origin rpy="0 0 0" xyz="-0.45470 0 -0.0759 "/>
  </joint>
  <link name="support_yaw">
    <visual>
      <origin rpy="0 0 0" xyz="0.45470 0 0"/>
      <geometry>
        <mesh filename="package://rm3_sherpa_description/description/meshes/gimbal_support_yaw.dae"/>
      </geometry>
    </visual>
    <inertial>
      <mass value="0.5"/>
      <origin rpy="0 0 0" xyz="0 0 0"/>
      <inertia ixx="0.00102680166667" ixy="0.0" ixz="0.0" iyy="0.00102680166667" iyz="0.0" izz="0.000133333333333"/>
    </inertial>
  </link>
  <gazebo reference="support_yaw">
    <material>Gazebo/DarkGrey</material>
  </gazebo>
  <joint name="rbsherpa_hl_gimbal_yaw_joint" type="revolute">
    <parent link="rbsherpa_hl_torso_pantilt_pan_link"/>
    <child link="rbsherpa_hl_gimbal_yaw_link"/>
    <origin rpy="0 0 3.14159265359" xyz="-0.45580 -0.01290 -0.14820"/>
    <axis xyz="0 0 -1"/>
    <limit effort="30.0" lower="-3.14149265359" upper="3.14149265359" velocity="50.0"/>
  </joint>
  <link name="rbsherpa_hl_gimbal_yaw_link">
    <visual>
      <origin rpy="0 0 3.14159265359" xyz="-0.45470 0 0.08180"/>
      <geometry>
        <mesh filename="package://rm3_sherpa_description/description/meshes/gimbal_yaw.dae"/>
      </geometry>
    </visual>
    <inertial>
      <mass value="0.5"/>
      <origin rpy="0 0 0" xyz="0 0 0"/>
      <inertia ixx="0.000120833333333" ixy="0.0" ixz="0.0" iyy="0.00483333333333" iyz="0.0" izz="0.00492083333333"/>
    </inertial>
  </link>
  <gazebo reference="rbsherpa_hl_gimbal_yaw_link">
    <material>Gazebo/DarkGrey</material>
  </gazebo>
  <!--	<joint name="yaw_roll_joint" type="fixed">-->
  <!--		<parent link="yaw"/>-->
  <!--		<child link="yaw_roll"/>-->
  <!--		<origin xyz="-0.150 0 -0.080" rpy="0 0 0"/>-->
  <!--	</joint>-->
  <!--	-->
  <!--	<link name="yaw_roll">-->
  <!--		-->
  <!--		<visual>-->
  <!--			<origin xyz="0.0 0.0 0.0" rpy="0.0 0.0 0.0"/>-->
  <!--			<geometry>-->
  <!--				<box size="0.0250 0.0250 0.160"/>-->
  <!--			</geometry>-->
  <!--		</visual>-->
  <!--		-->
  <!--		<inertial>-->
  <!--			<mass value="1.0" />-->
  <!--			<origin xyz="0.0 0.0 0.0" rpy="0.0 0.0 0.0"/>-->
  <!--			<box_inertia  m="1.0" h="0.50" w ="0.050" d="0.020"/>-->
  <!--		</inertial>	-->
  <!--	</link>-->
  <!--	-->
  <!--	<gazebo reference="yaw_roll"><material>Gazebo/Grey</material></gazebo>-->
  <joint name="rbsherpa_hl_gimbal_roll_joint" type="revolute">
    <parent link="rbsherpa_hl_gimbal_yaw_link"/>
    <child link="rbsherpa_hl_gimbal_roll_link"/>
    <origin rpy="0.0 0.0 0.0" xyz="-0.14220 -0.00680 -0.14330"/>
    <axis xyz="1.0 0.0 0.0"/>
    <limit effort="30.0" lower="-1.57079632679" upper="1.57079632679" velocity="50.0"/>
  </joint>
  <link name="rbsherpa_hl_gimbal_roll_link">
    <visual>
      <origin rpy="0.0 0.0 3.14159265359" xyz="-0.310 0.0050 0.220"/>
      <geometry>
        <mesh filename="package://rm3_sherpa_description/description/meshes/gimbal_roll.dae"/>
      </geometry>
    </visual>
    <inertial>
      <mass value="0.5"/>
      <origin rpy="0.0 0.0 0.0" xyz="0.0 0.0 0.0"/>
      <inertia ixx="0.00492083333333" ixy="0.0" ixz="0.0" iyy="0.00177083333333" iyz="0.0" izz="0.00648333333333"/>
    </inertial>
  </link>
  <gazebo reference="rbsherpa_hl_gimbal_roll_link">
    <material>Gazebo/DarkGrey</material>
  </gazebo>
  <!--	<joint name="pitch_support_joint" type="fixed">-->
  <!--		<parent link="roll"/>-->
  <!--		<child link="pitch_support"/>-->
  <!--		<origin xyz="0.17850 -0.13780 0" rpy="0.0 0.0 0.0"/>-->
  <!--	</joint>-->
  <!--	-->
  <!--	<link name="pitch_support">-->
  <!--		-->
  <!--		<visual>-->
  <!--			<origin xyz="-0.050 0.0 0.0" rpy="0.0 0.0 0.0"/>-->
  <!--			<geometry>-->
  <!--				<box size="0.250 0.020 0.050"/>-->
  <!--			</geometry>-->
  <!--		</visual>-->
  <!--		-->
  <!--		<inertial>-->
  <!--			<mass value="0.5" />-->
  <!--			<origin xyz="0.0 0.0 0.0" rpy="0.0 0.0 0.0"/>-->
  <!--			<box_inertia  m="0.5" h="0.250" w ="0.020" d="0.050"/>-->
  <!--		</inertial>-->
  <!--			-->
  <!--	</link>-->
  <!--	-->
  <!--	<joint name="usless_joint" type="fixed">-->
  <!--		<parent link="roll"/>-->
  <!--		<child link="usless_link"/>-->
  <!--		<origin xyz="0.17850 0.13780 0.0" rpy="0.0 0.0 0.0"/>-->
  <!--	</joint>-->
  <!--	-->
  <!--	<link name="usless_link">-->
  <!--		-->
  <!--		<visual>-->
  <!--			<origin xyz="-0.050 0.0 0.0" rpy="0.0 0.0 0.0"/>-->
  <!--			<geometry>-->
  <!--				<box size="0.250 0.020 0.050"/>-->
  <!--			</geometry>-->
  <!--		</visual>-->
  <!--		-->
  <!--		<inertial>-->
  <!--			<mass value="0.5" />-->
  <!--			<origin xyz="0.0 0.0 0.0" rpy="0.0 0.0 0.0"/>-->
  <!--			<box_inertia  m="0.5" h="0.250" w ="0.020" d="0.050"/>-->
  <!--		</inertial>-->
  <!--			-->
  <!--	</link>-->
  <joint name="rbsherpa_hl_gimbal_pitch_joint" type="revolute">
    <parent link="rbsherpa_hl_gimbal_roll_link"/>
    <child link="rbsherpa_hl_gimbal_pitch_link"/>
    <origin rpy="0.0 0.0 0.0" xyz="0.18120 -0.13220 -0.00340"/>
    <axis xyz="0.0 -1 0.0"/>
    <limit effort="30.0" lower="-1.57079632679" upper="1.57079632679" velocity="50.0"/>
  </joint>
  -
	
	
	
  <link name="rbsherpa_hl_gimbal_pitch_link">
    <visual>
      <origin rpy="0.0 0.0 3.14159265359" xyz="-0.480 0.13780 0.21850"/>
      <geometry>
        <mesh filename="package://rm3_sherpa_description/description/meshes/gimbal_pitch.dae"/>
      </geometry>
    </visual>
    <inertial>
      <mass value="0.5"/>
      <origin rpy="0.0 0.0 0.0" xyz="0.0 0.140 0.0"/>
      <inertia ixx="0.00317083333333" ixy="0.0" ixz="0.0" iyy="0.00150520833333" iyz="0.0" izz="0.00166770833333"/>
    </inertial>
  </link>
  <gazebo reference="rbsherpa_hl_gimbal_pitch_link">
    <material>Gazebo/DarkGrey</material>
  </gazebo>
  <joint name="camera_joint" type="fixed">
    <parent link="rbsherpa_hl_gimbal_pitch_link"/>
    <child link="camera"/>
    <origin rpy="0.0 0.0 0.0" xyz="0.02040 0.14450 -0.00710"/>
  </joint>
  <link name="camera">
    <visual>
      <origin rpy="0.0 0.0 0.0" xyz="0.0 0.0 0.0"/>
      <geometry>
        <box size="0.020 0.020 0.020"/>
      </geometry>
    </visual>
    <inertial>
      <mass value="0.5"/>
      <origin rpy="0.0 0.0 0.0" xyz="0.0 0.0 0.0"/>
      <inertia ixx="3.33333333333e-05" ixy="0.0" ixz="0.0" iyy="3.33333333333e-05" iyz="0.0" izz="3.33333333333e-05"/>
    </inertial>
  </link>
  <joint name="micasense_joint" type="fixed">
    <parent link="rbsherpa_hl_gimbal_pitch_link"/>
    <child link="micasense"/>
    <origin rpy="0.0 0.0 0.0" xyz="0.11540 0.14610 0.06410"/>
  </joint>
  <link name="micasense">
    <visual>
      <origin rpy="0.0 0.0 0.0" xyz="0.0 0.0 0.0"/>
      <geometry>
        <box size="0.020 0.020 0.020"/>
      </geometry>
    </visual>
    <inertial>
      <mass value="0.5"/>
      <origin rpy="0.0 0.0 0.0" xyz="0.0 0.0 0.0"/>
      <inertia ixx="3.33333333333e-05" ixy="0.0" ixz="0.0" iyy="3.33333333333e-05" iyz="0.0" izz="3.33333333333e-05"/>
    </inertial>
  </link>
  <!-- camera/micasense -->
  <gazebo reference="micasense">
    <sensor name="camera" type="camera">
      <update_rate>30.0</update_rate>
      <camera name="head">
        <horizontal_fov>1.3962634</horizontal_fov>
        <image>
          <width>1000</width>
          <height>800</height>
          <format>R8G8B8</format>
        </image>
        <clip>
          <near>0.02</near>
          <far>300</far>
        </clip>
        <noise>
          <type>gaussian</type>
          <!-- Noise is sampled independently per pixel on each frame.
                   That pixel's noise value is added to each of its color
                   channels, which at that point lie in the range [0,1]. -->
          <mean>0.0</mean>
          <stddev>0.007</stddev>
        </noise>
      </camera>
      <plugin filename="libgazebo_ros_camera.so" name="camera_controller">
        <alwaysOn>true</alwaysOn>
        <updateRate>0.0</updateRate>
        <cameraName>camera</cameraName>
        <imageTopicName>image_raw</imageTopicName>
        <cameraInfoTopicName>camera_info</cameraInfoTopicName>
        <frameName>micasense</frameName>
        <hackBaseline>0.07</hackBaseline>
        <distortionK1>0.0</distortionK1>
        <distortionK2>0.0</distortionK2>
        <distortionK3>0.0</distortionK3>
        <distortionT1>0.0</distortionT1>
        <distortionT2>0.0</distortionT2>
      </plugin>
    </sensor>
  </gazebo>
  <!-- IMU -->
  <joint name="imu_joint" type="fixed">
    <parent link="rbsherpa_hl_base_link"/>
    <child link="imu"/>
    <origin rpy="0 0 0" xyz="0.54590 -0.07190 0.6970"/>
  </joint>
  <link name="imu">
    <visual>
      <origin rpy="0 0 0" xyz="0 0 0"/>
      <geometry>
        <box size="0.040 0.040 0.030"/>
      </geometry>
    </visual>
    <inertial>
      <origin rpy="0 0 0" xyz="0 0 0"/>
      <mass value="0.10"/>
      <inertia ixx="2.08333333333e-05" ixy="0.0" ixz="0.0" iyy="2.08333333333e-05" iyz="0.0" izz="2.66666666667e-05"/>
    </inertial>
  </link>
  <!-- Velodye -->
  <joint name="velodyne_joint" type="fixed">
    <parent link="rbsherpa_hl_base_link"/>
    <child link="rbsherpa_hl_velodyne_base_link"/>
    <origin rpy="0 0 0" xyz="0.8815 0.08320 0.3334"/>
    <!-- Inserire inclinazione del velodyne -->
  </joint>
  <link name="rbsherpa_hl_velodyne_base_link">
    <visual>
      <origin rpy="0 0 0" xyz="0.00170 -0.07440 0.11750"/>
      <geometry>
        <cylinder length="0.080" radius="0.08"/>
      </geometry>
    </visual>
    <inertial>
      <origin rpy="0 0 0" xyz="0.00170 0.07440 0.11750"/>
      <mass value="0.830"/>
      <inertia ixx="0.00177066666667" ixy="0.0" ixz="0.0" iyy="0.002656" iyz="0.0" izz="0.00177066666667"/>
    </inertial>
  </link>
  <gazebo reference="rbsherpa_hl_velodyne_base_link">
    <material>Gazebo/DarkGrey</material>
  </gazebo>
  <!--
	<link name="velodyne_cover">
		<visual>
			<geometry>
				<mesh filename="package://velodyne_description/meshes/VLP16_base_1.dae" />
			</geometry>
			<origin xyz="0 0 0" />
		</visual>
		<visual>
        <geometry>
          <mesh filename="package://velodyne_description/meshes/VLP16_base_2.dae" />
        </geometry>
      </visual>

		<inertial>
			<origin xyz="0 0 0" rpy="0 0 0"/>
			<mass value="0.83" />
			<inertia ixx="${(0.83 * (3.0*0.0516*0.0516 + 0.0717*0.0717)) / 12.0}" ixy="0" ixz="0"
          iyy="${(0.83 * (3.0*0.0516*0.0516 + 0.0717*0.0717)) / 12.0}" iyz="0"
          izz="${0.5 * 0.83 * (0.0516*0.0516)}"/>
		</inertial>
		
		<collision>
        <origin rpy="0 0 0" xyz="0 0 0"/>
        <geometry>
          <cylinder radius="0.0516" length="0.0717"/>
        </geometry>
      </collision>
    	</link>
    	
    	
    	<joint name="$base_scan_joint" type="fixed" >
      <origin xyz="0 0 0.0377" rpy="0 0 0" />
      <parent link="velodyne_cover" />
      <child link="velodyne"/>
    </joint>

    <link name="velodyne">
      <inertial>
        <mass value="0.01"/>
        <origin xyz="0 0 0"/>
        <inertia ixx="1e-7" ixy="0" ixz="0" iyy="1e-7" iyz="0" izz="1e-7"/>
      </inertial>
      <visual>
        <origin xyz="0 0 -0.0377" />
        <geometry>
          <mesh filename="package://velodyne_description/meshes/VLP16_scan.dae" />
        </geometry>
      </visual>
    </link>
    	
	
	

	<gazebo reference="velodyne">
		<sensor type="ray" name="VLP16">
			<pose>0 0 0 0 0 0</pose>
			<visualize>false</visualize>
			<update_rate>10</update_rate>
			<ray>
				<scan>
						<horizontal>
							<samples>360</samples>
							<resolution>1</resolution>
							<min_angle>-${PI}</min_angle>
							<max_angle> ${PI}</max_angle>
						</horizontal>
					<vertical>
						<samples>16</samples>
						<resolution>1</resolution>
						<min_angle>-${15.0*PI/180.0}</min_angle>
						<max_angle> ${15.0*PI/180.0}</max_angle>
					</vertical>
				</scan>
				<range>
					<min>0.3</min>
					<max>131.0</max>
					<resolution>0.001</resolution>
				</range>
				<noise>
					<type>gaussian</type>
					<mean>0.0</mean>
					<stddev>0.0</stddev>
				</noise>
			</ray>
			
			<plugin name="gazebo_ros_laser_controller" filename="libgazebo_ros_velodyne_laser.so">
				<topicName>velodyne</topicName>
				<frameName>velodyne</frameName>
				<min_range>1.0</min_range>
				<max_range>140.0</max_range>
				<gaussianNoise>0.008</gaussianNoise>
			</plugin>
		</sensor>
	</gazebo>
	-->
  <!-- GAZEBO -->
  <!-- ros_control plugin -->
  <gazebo>
    <plugin filename="libgazebo_ros_p3d.so" name="ground_truth">
      <alwaysOn>true</alwaysOn>
      <updateRate>100.0</updateRate>
      <bodyName>baselink</bodyName>
      <topicName>/ekf_slam_node/slam_odom</topicName>
      <gaussianNoise>0.00</gaussianNoise>
      <frameName>/map</frameName>
      <xyzOffsets>0 0 0</xyzOffsets>
      <rpyOffsets>0 0 0</rpyOffsets>
    </plugin>
    <!-- ros_control plugin -->
    <plugin filename="libgazebo_ros_control.so" name="gazebo_ros_control">
      <legacyModeNS>true</legacyModeNS>
    </plugin>
  </gazebo>
</robot>
